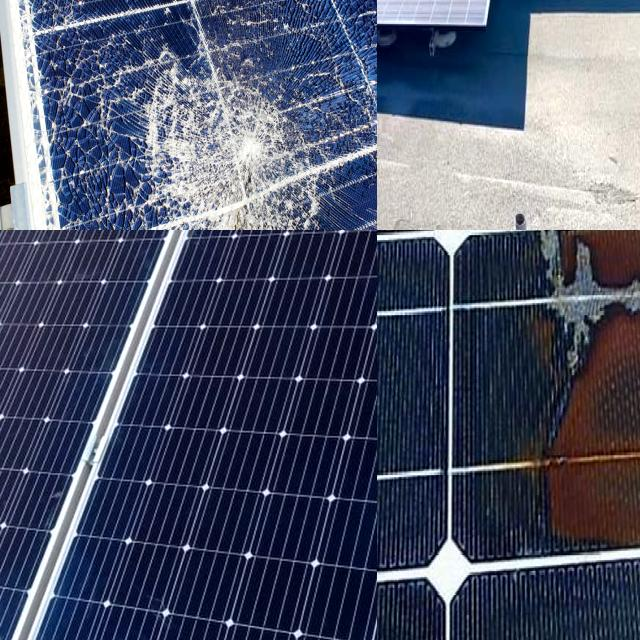crack: (0, 230, 377, 640), (0, 230, 209, 640)
dust: (377, 0, 484, 35), (524, 0, 640, 25), (386, 0, 493, 21), (542, 0, 640, 19), (398, 0, 508, 16), (377, 0, 416, 28), (377, 0, 412, 22), (377, 0, 413, 13), (377, 0, 407, 13)
hotspot: (136, 29, 325, 230)
shadow: (510, 230, 640, 563)
